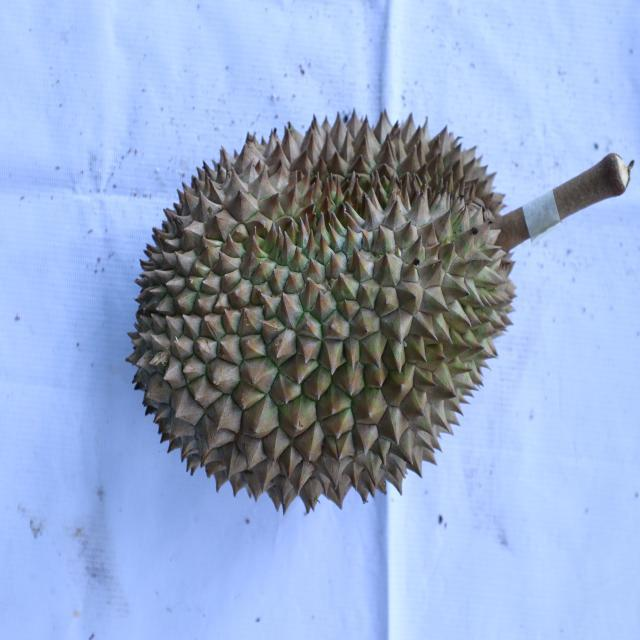mature: (125, 107, 519, 513)
